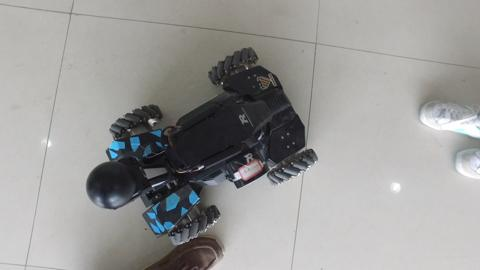chariot: (83, 52, 302, 238)
